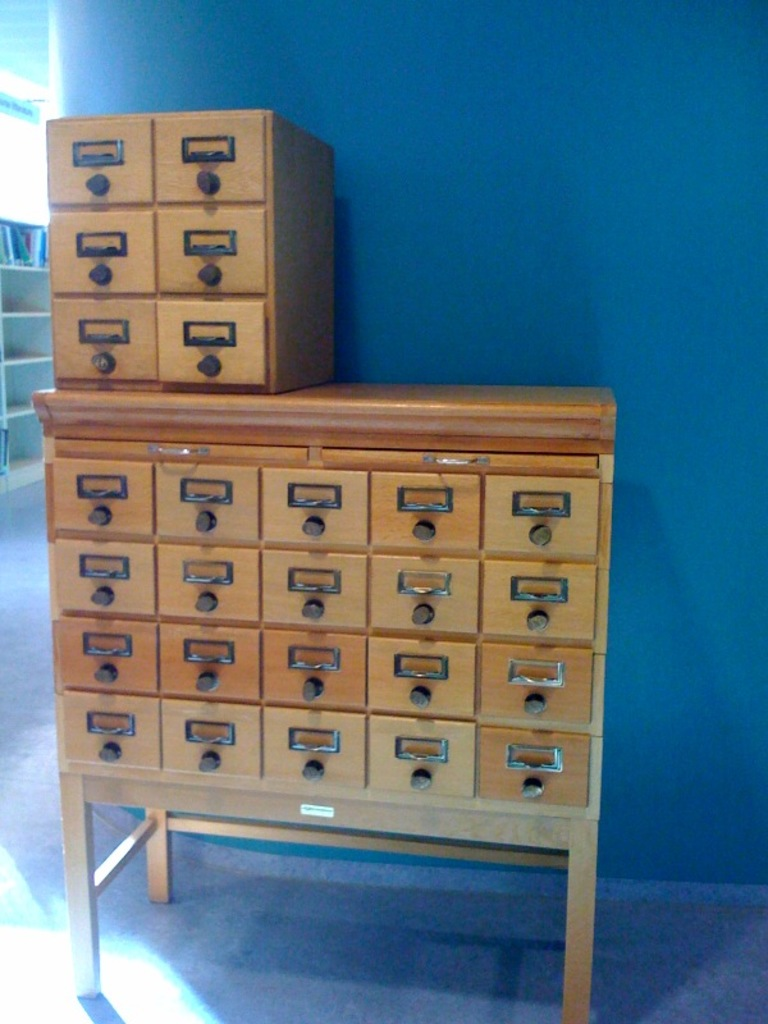cabinet door: (479, 636, 595, 735), (478, 718, 597, 812), (367, 708, 477, 802), (370, 462, 482, 553), (315, 444, 601, 479), (481, 478, 602, 560), (366, 629, 479, 713), (260, 630, 369, 715), (59, 432, 309, 469), (155, 302, 266, 384), (370, 558, 481, 640), (262, 466, 370, 548), (259, 546, 368, 627), (155, 542, 262, 623), (482, 562, 593, 640), (56, 536, 157, 620), (157, 125, 265, 203), (160, 219, 265, 299), (263, 704, 368, 784), (59, 612, 159, 695), (159, 698, 261, 778), (158, 622, 261, 700), (51, 219, 155, 296), (46, 127, 152, 201), (57, 302, 154, 381), (57, 454, 151, 533), (157, 465, 261, 535), (67, 688, 161, 762)
handle: (425, 452, 486, 476), (150, 441, 208, 462), (193, 589, 222, 620), (95, 658, 115, 690), (199, 747, 219, 778), (530, 523, 551, 552), (411, 678, 430, 710), (86, 172, 109, 198), (301, 513, 323, 539), (413, 599, 433, 627), (413, 764, 433, 792), (93, 351, 117, 374), (301, 600, 325, 623), (97, 741, 121, 764), (302, 676, 321, 705), (199, 353, 223, 375), (525, 690, 546, 715), (197, 169, 217, 195), (197, 667, 214, 697), (527, 607, 548, 631), (524, 775, 543, 801), (94, 255, 112, 282), (91, 586, 114, 607), (199, 262, 221, 283), (91, 505, 110, 529), (303, 755, 322, 779), (415, 519, 434, 542), (196, 513, 213, 536)
